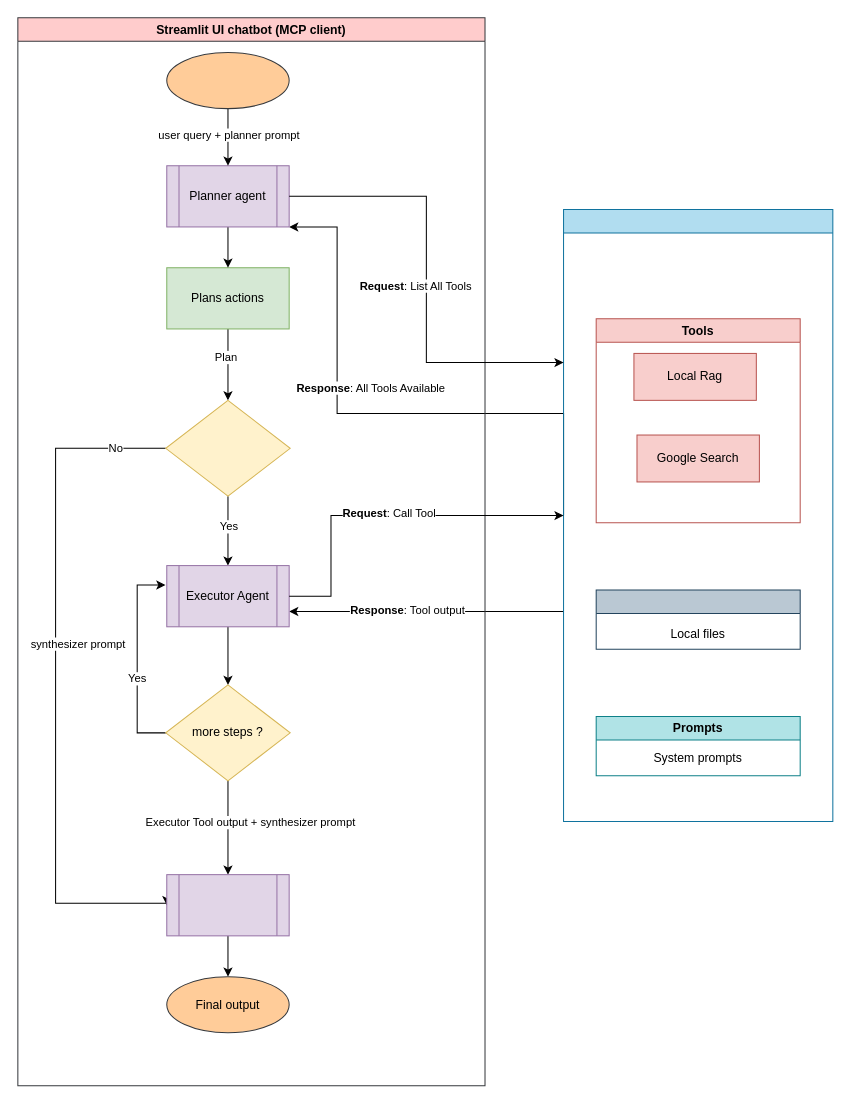
This 851x1104 diagram has some shape labels left out. The shapes that lost their labels are listed below. From the top down, each one's box as (x1, y1, x2, y2) in pixels, then its label:
(166, 52, 289, 109): User query
(165, 399, 290, 496): more than one action ?
(563, 209, 833, 822): MCP server
(595, 589, 800, 649): Resources
(166, 874, 289, 936): Synthesizer Agent
